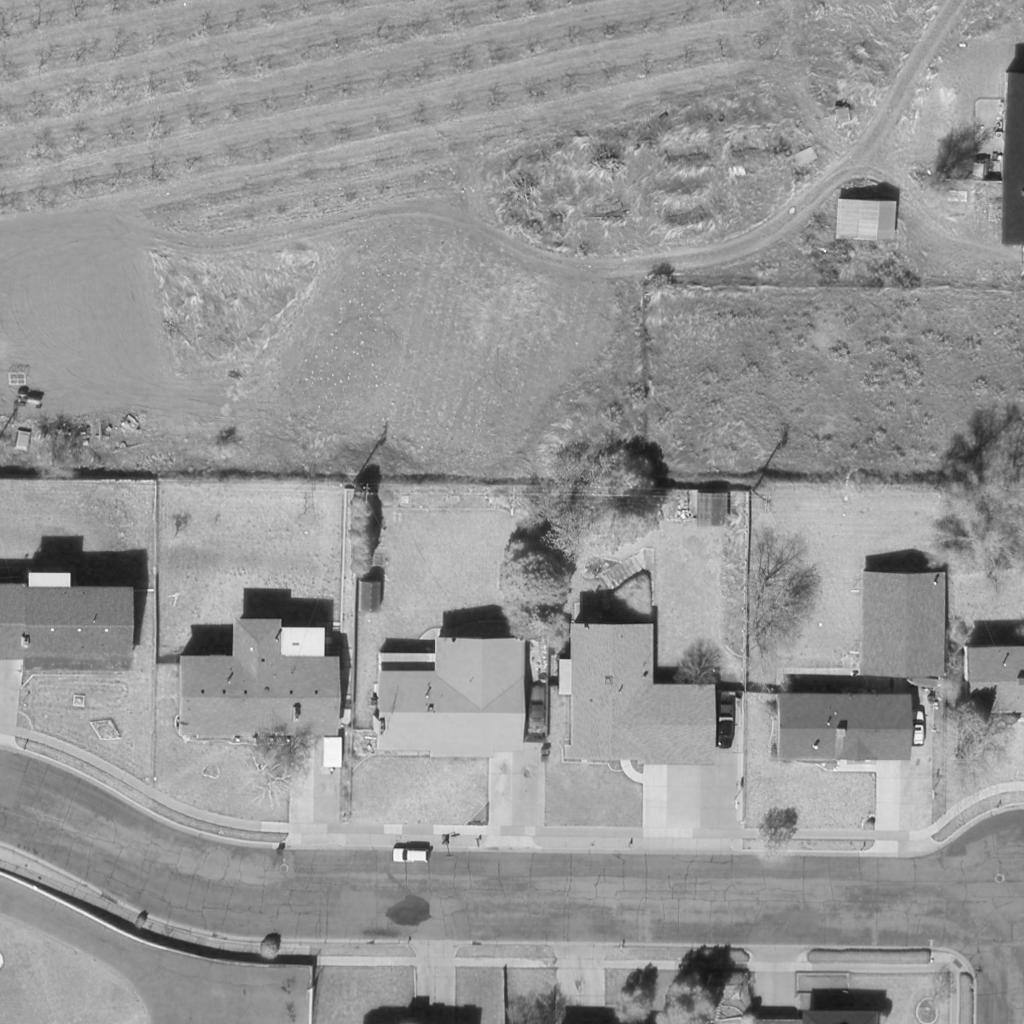vehicle: (716, 694, 736, 748), (527, 685, 547, 735), (392, 844, 430, 866), (16, 387, 46, 411), (326, 736, 344, 772), (912, 714, 926, 748)
